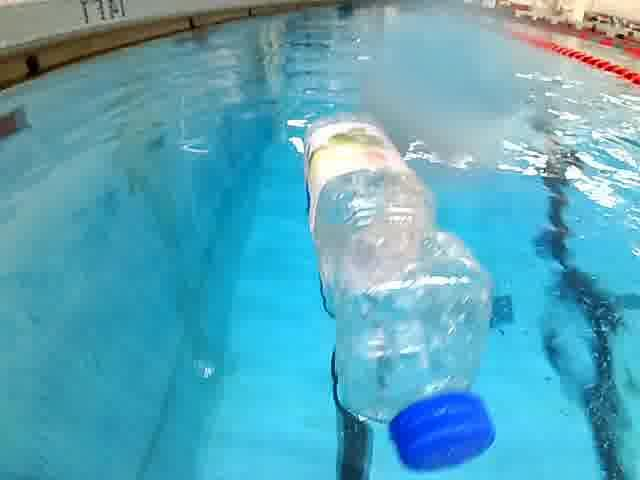Bottle: (300, 111, 497, 466)
